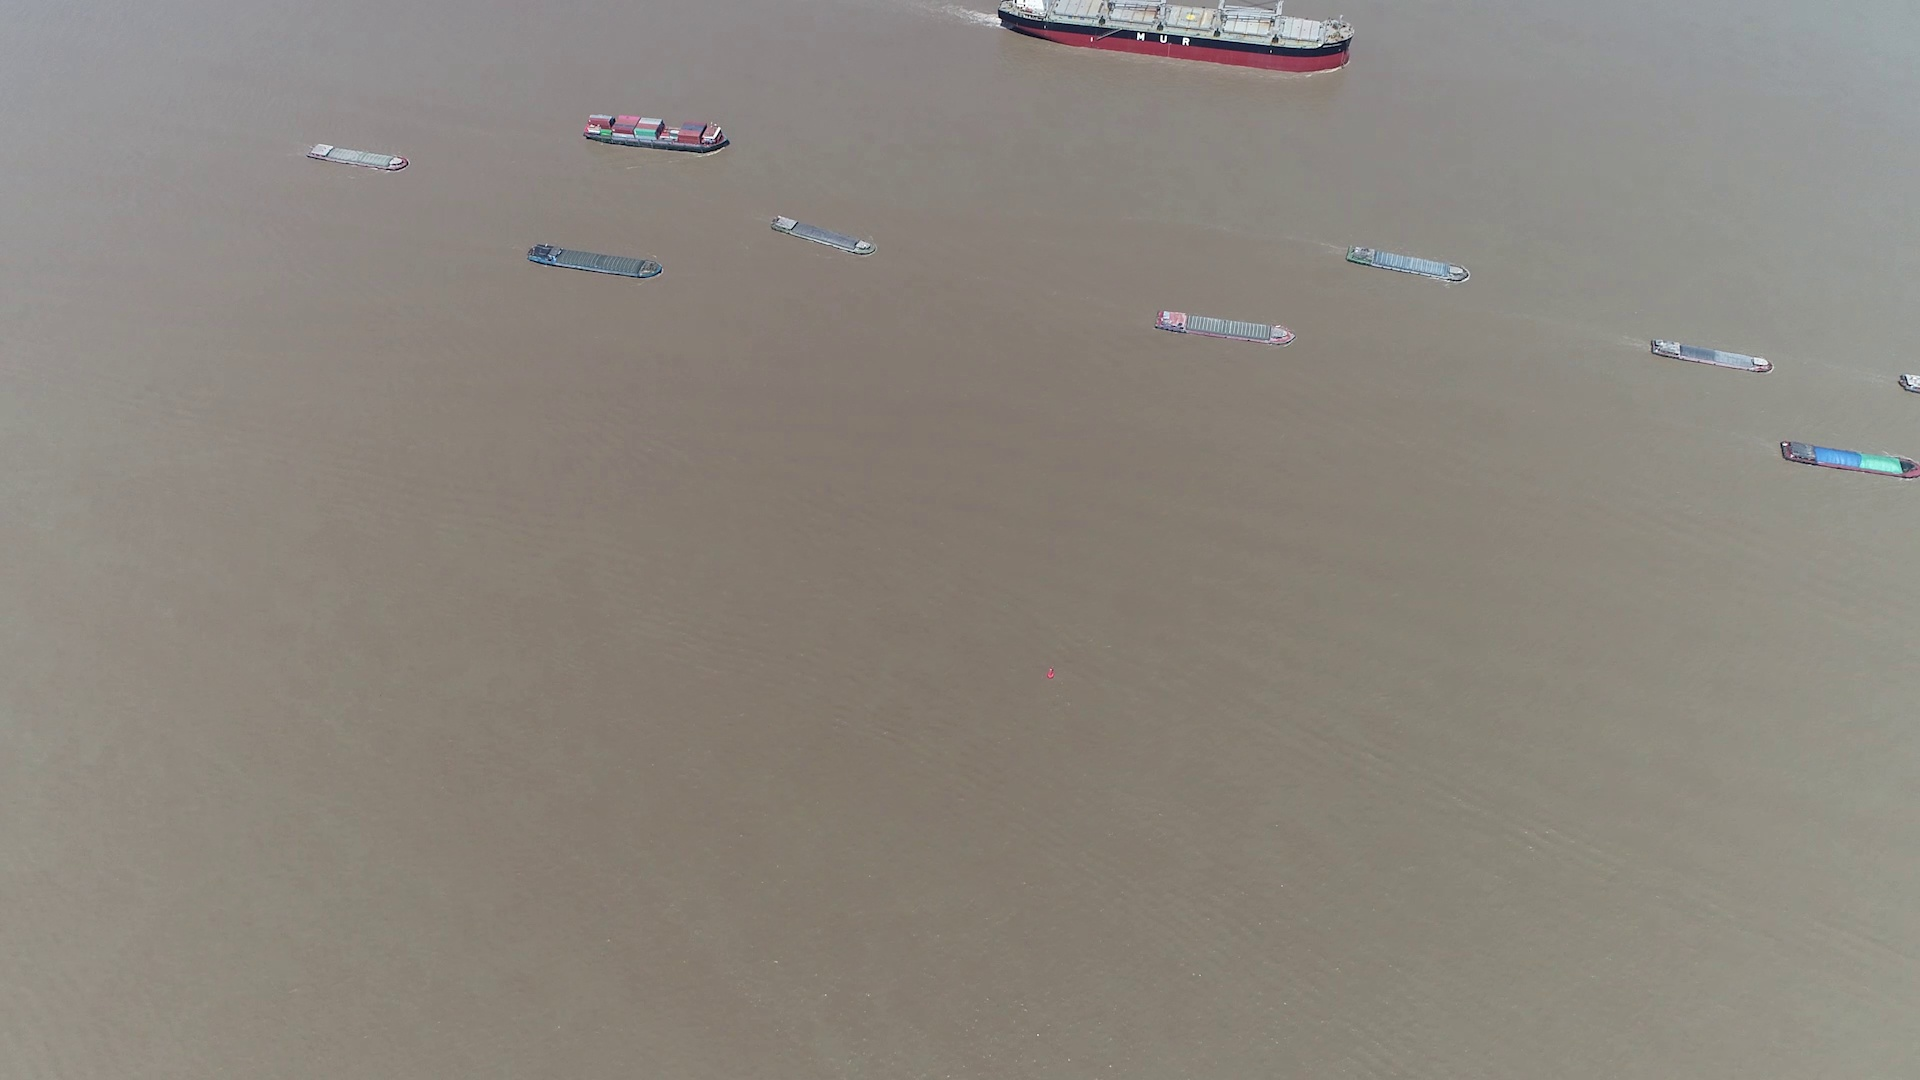ship: (1000, 0, 1350, 71), (582, 112, 731, 152), (1780, 440, 1919, 481), (529, 243, 663, 281), (1346, 243, 1470, 284), (1156, 309, 1294, 345), (771, 214, 878, 257), (1648, 338, 1774, 375), (306, 141, 409, 171)
